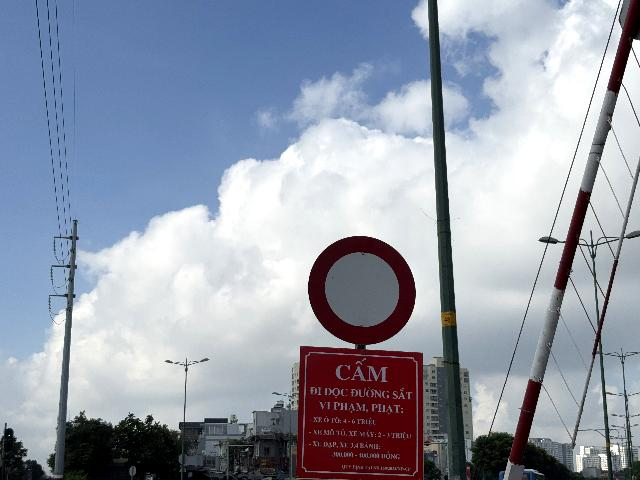duong-cam: (308, 236, 416, 345)
